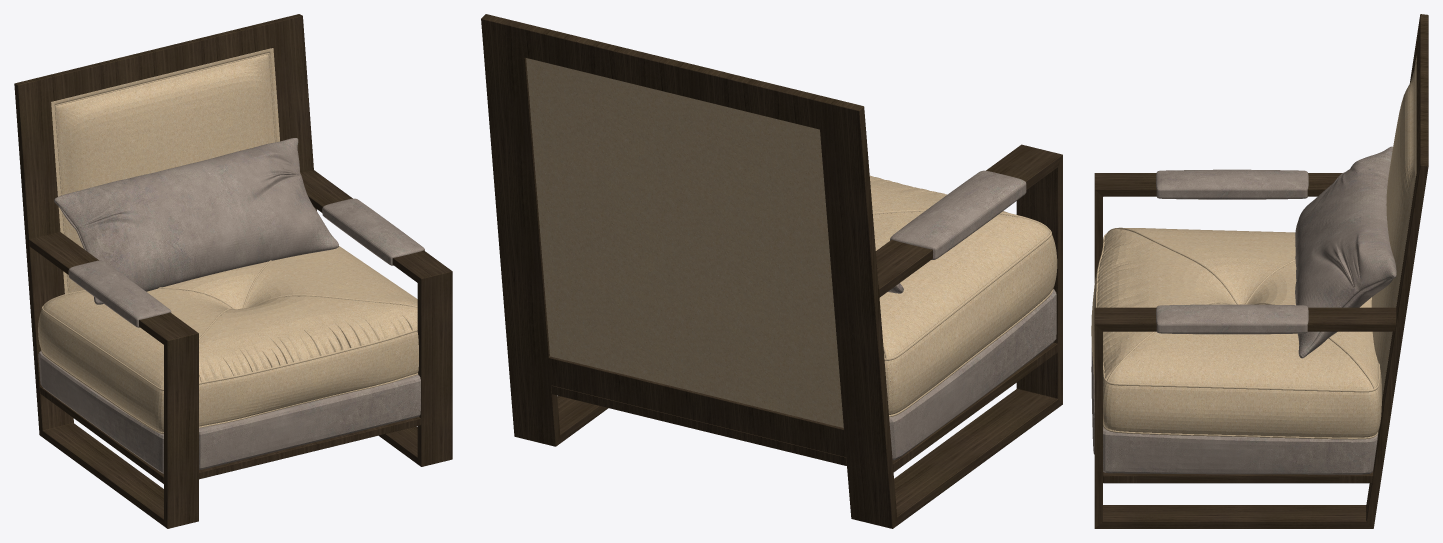
The model's file is ArmchairFratoN210721.obj.
3 views of the same model, side by side, from view 1: azimuth 30°, elevation 25°; view 2: azimuth 150°, elevation 25°; view 3: azimuth 270°, elevation 25° (orthographic). The views are drawn at different scales.
Parts seen in each view (by area): view 1: frato_interiors_armchair; view 2: frato_interiors_armchair; view 3: frato_interiors_armchair.
Part boxes in pixels (<box>): frato_interiors_armchair: <box>14,14,452,528</box>; frato_interiors_armchair: <box>481,14,1062,528</box>; frato_interiors_armchair: <box>1091,14,1428,528</box>.
Bounding box in the file's own units: 890 × 953 × 800.
